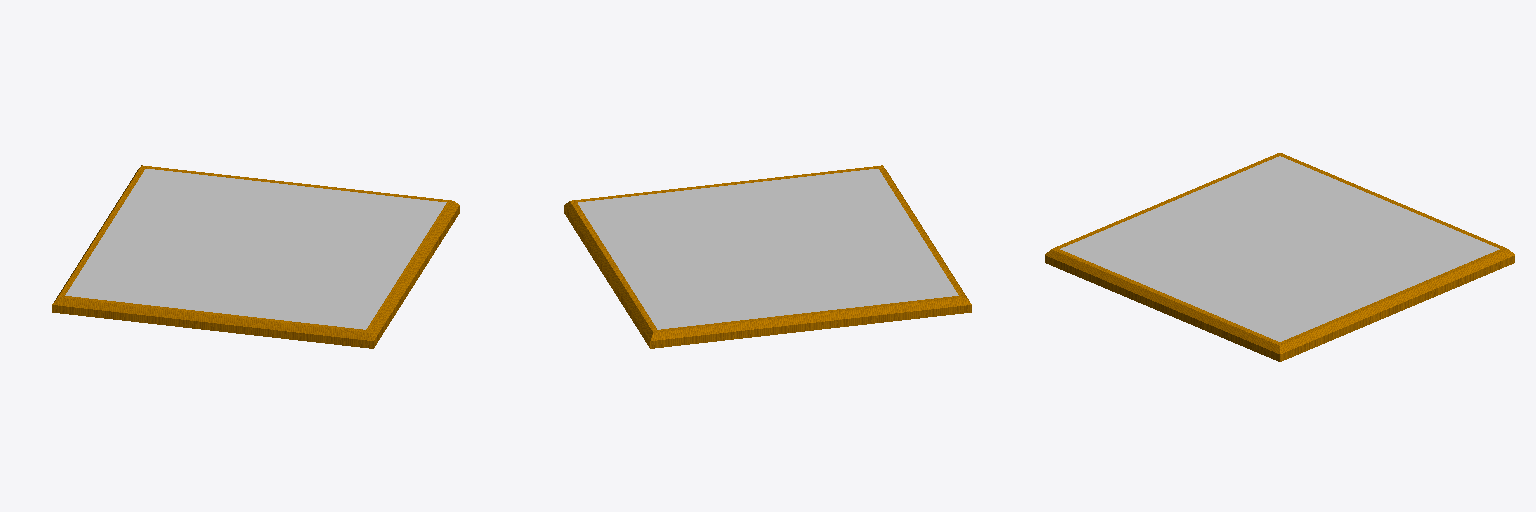
The picture shows the model from 3 angles: view 1: azimuth 30°, elevation 25°; view 2: azimuth 150°, elevation 25°; view 3: azimuth 270°, elevation 25°; orthographic projection.
Visible parts, largest first — view 1: Board; view 2: Board; view 3: Board.
Boxes of the visible parts, x1,y1,x2,y2 form: Board: [52, 165, 459, 348]; Board: [564, 165, 971, 348]; Board: [1045, 153, 1514, 361].
Bounding box in the file's own units: 17.82 × 0.5734 × 17.82.
2 materials, 1 textured.